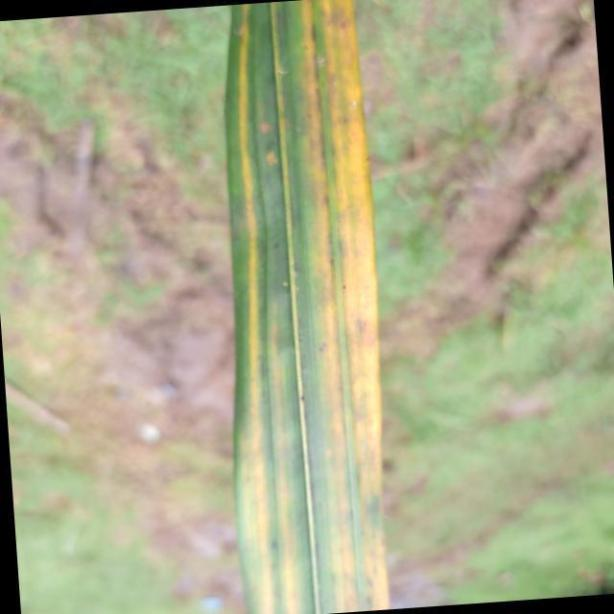Megnesium: (227, 0, 392, 614)
